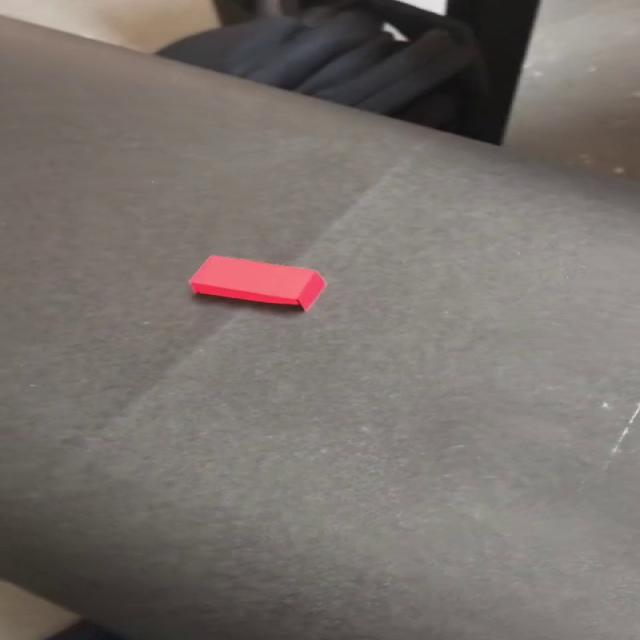red block: (188, 253, 327, 311)
